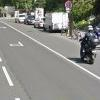Motorcycle: (74, 31, 100, 74)
